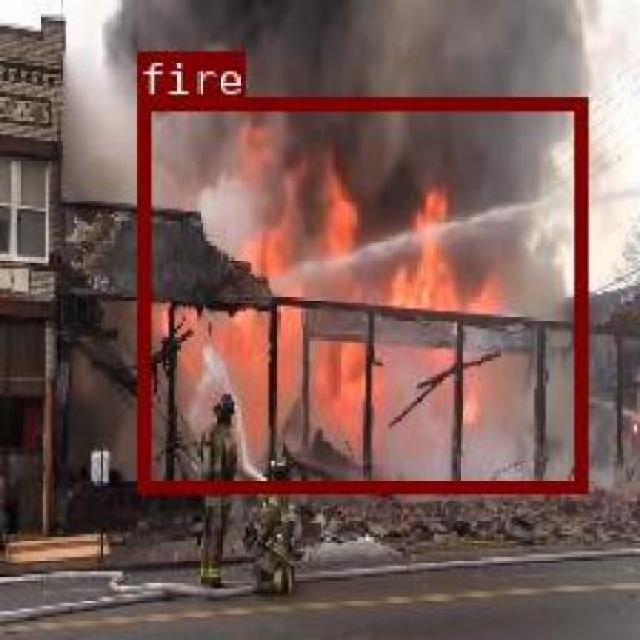Fire: (360, 293, 449, 397)
